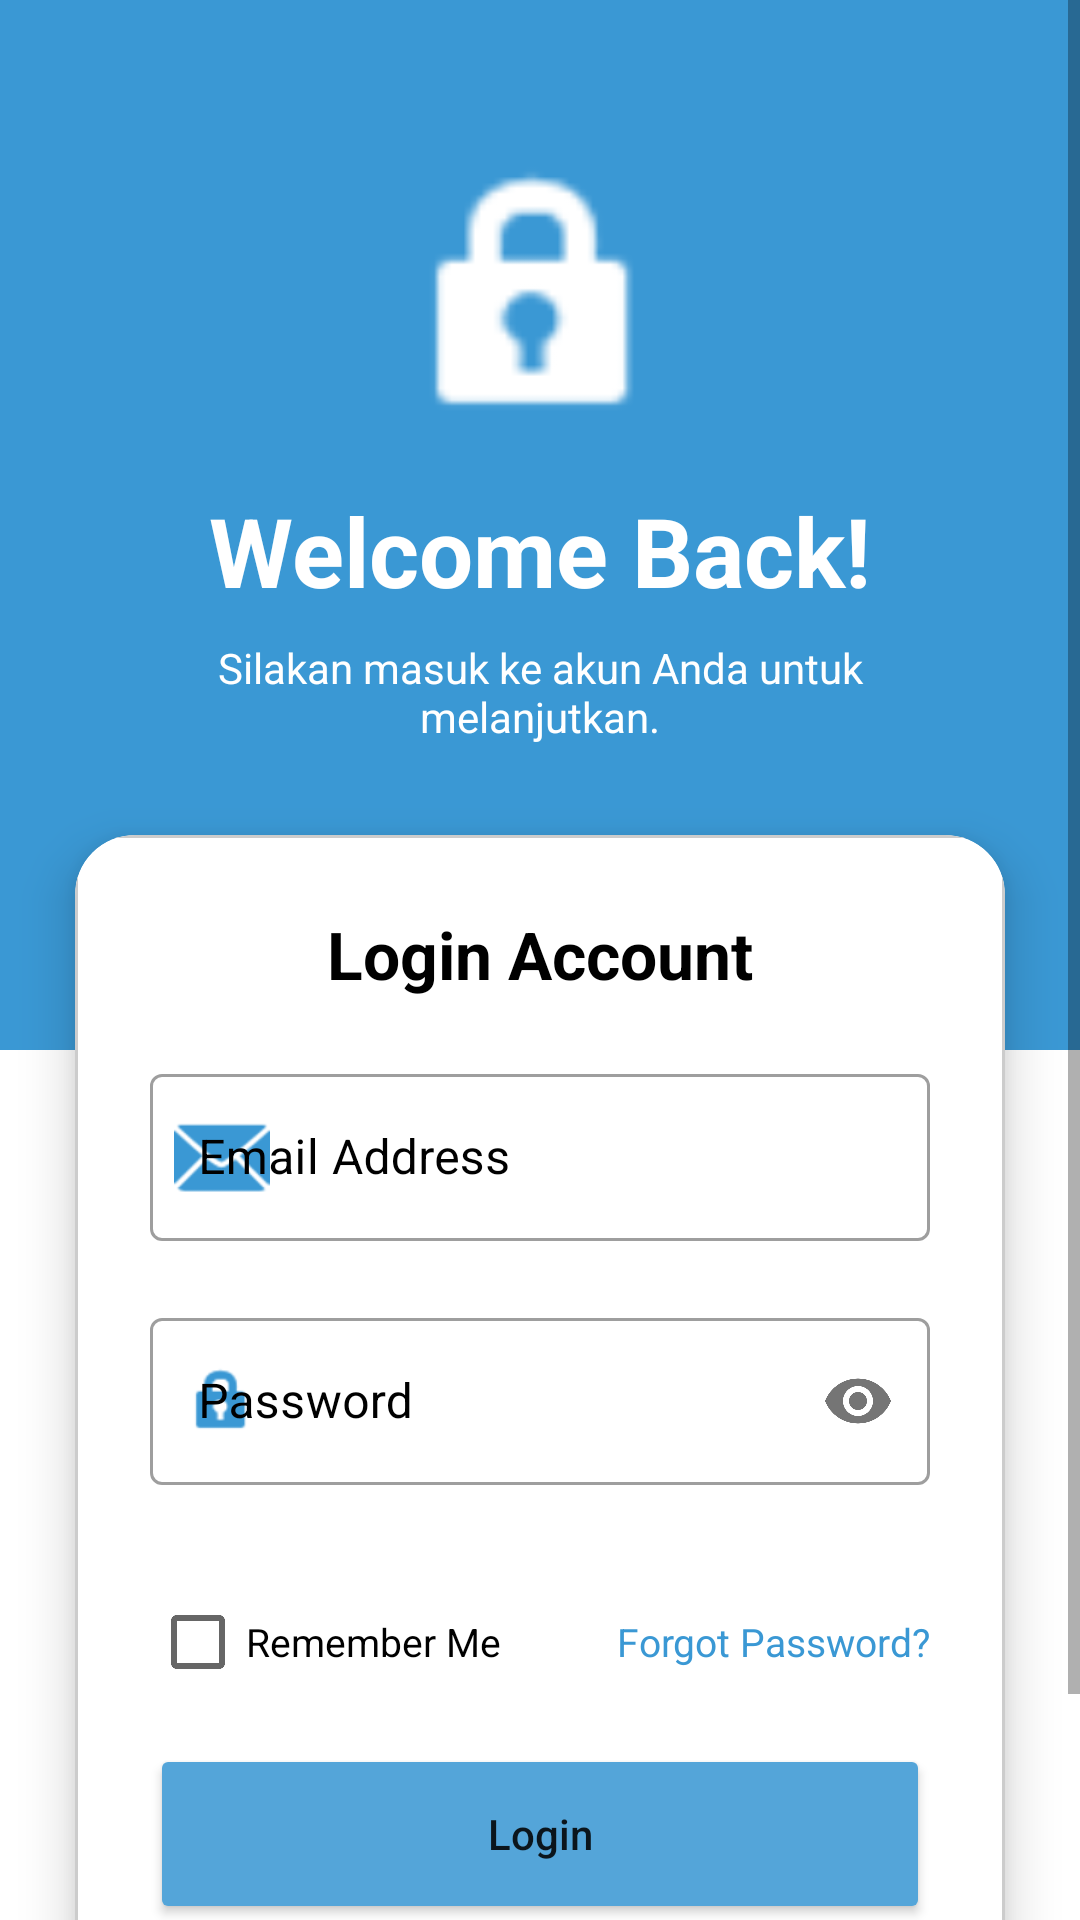

Where to tap for icons on this 1080*1920 app screen, as [x,y]:
lock idle: [533,290]
